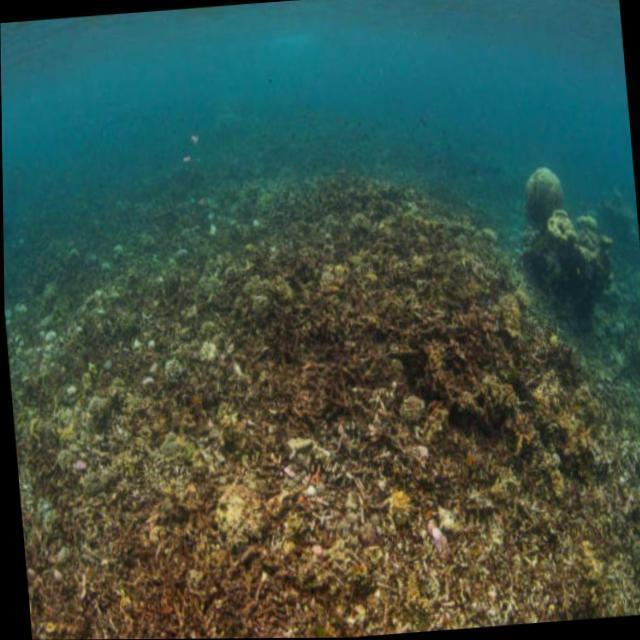Dead Coral: (6, 181, 626, 640)
